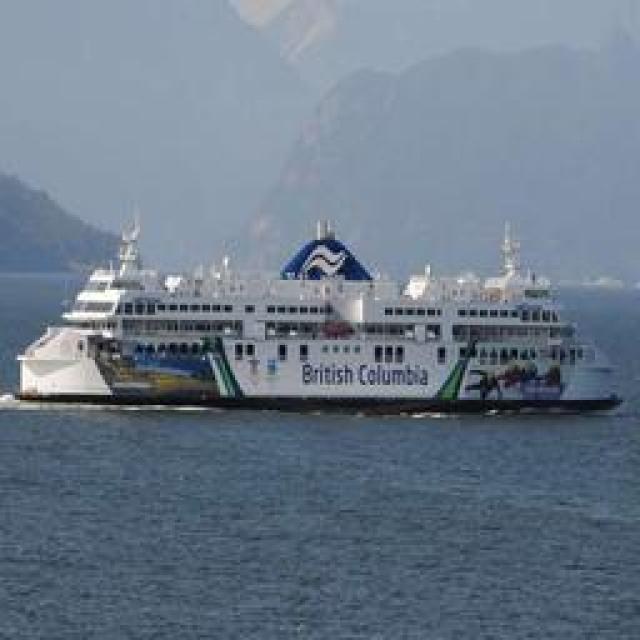Ship: (36, 204, 619, 419)
